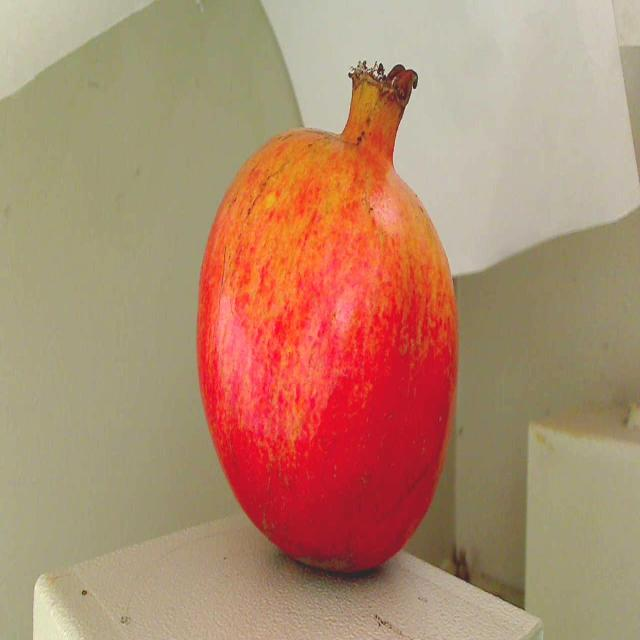pomegranate: (188, 51, 468, 576)
